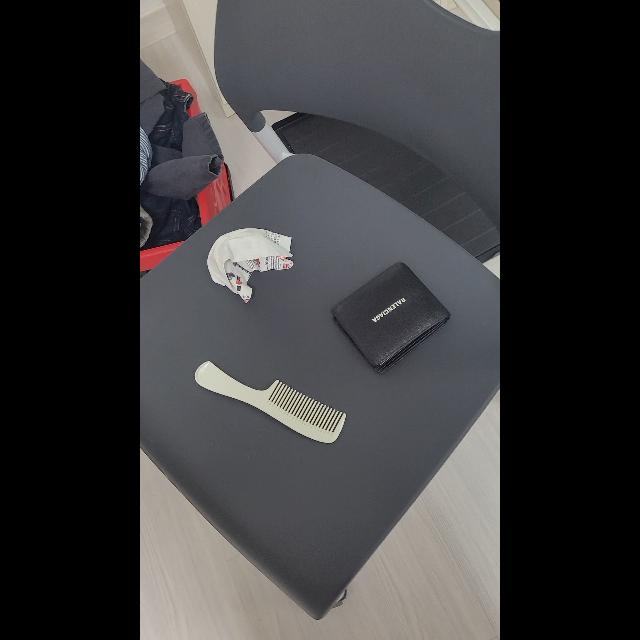COMB: (194, 362, 346, 442)
Glasses cleaning cloth: (207, 228, 293, 304)
WALLET: (332, 262, 451, 374)
